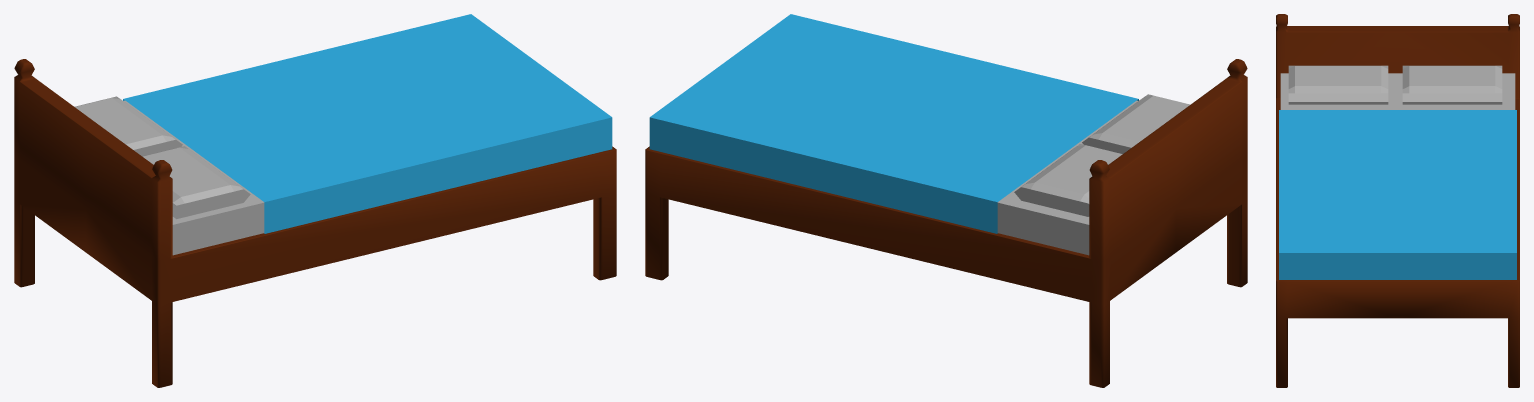
The model's file is ModeladoCama2.fbx.
3 renders of one model, left to right at view 1: azimuth 30°, elevation 25°; view 2: azimuth 150°, elevation 25°; view 3: azimuth 270°, elevation 25°, orthographic. The views are drawn at different scales.
Visible parts, largest first — view 1: CAMA2; view 2: CAMA2; view 3: CAMA2.
Boxes of the visible parts, x1=… form: CAMA2: x1=14, y1=14, x2=616, y2=387; CAMA2: x1=645, y1=14, x2=1247, y2=387; CAMA2: x1=1276, y1=14, x2=1519, y2=387.
Bounding box in the file's own units: 704 × 326 × 384.
